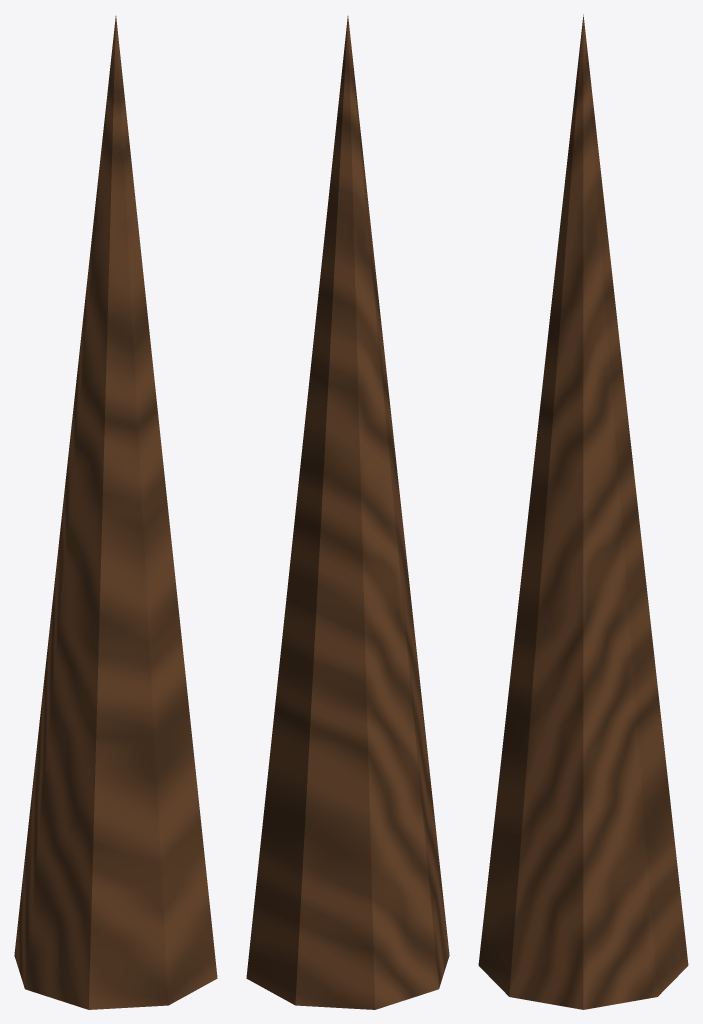
Rendered from stake.glb.
3 views of the same model, side by side, from view 1: azimuth 30°, elevation 25°; view 2: azimuth 150°, elevation 25°; view 3: azimuth 270°, elevation 25° (orthographic).
Visible parts, largest first — view 1: Cone.001; view 2: Cone.001; view 3: Cone.001.
Boxes of the visible parts, x1,y1,x2,y2 form: Cone.001: (14,16,217,1009); Cone.001: (246,16,449,1009); Cone.001: (478,14,688,1009).
Bounding box in the file's own units: 0.1 × 0.5 × 0.1.
1 material, 1 textured.
